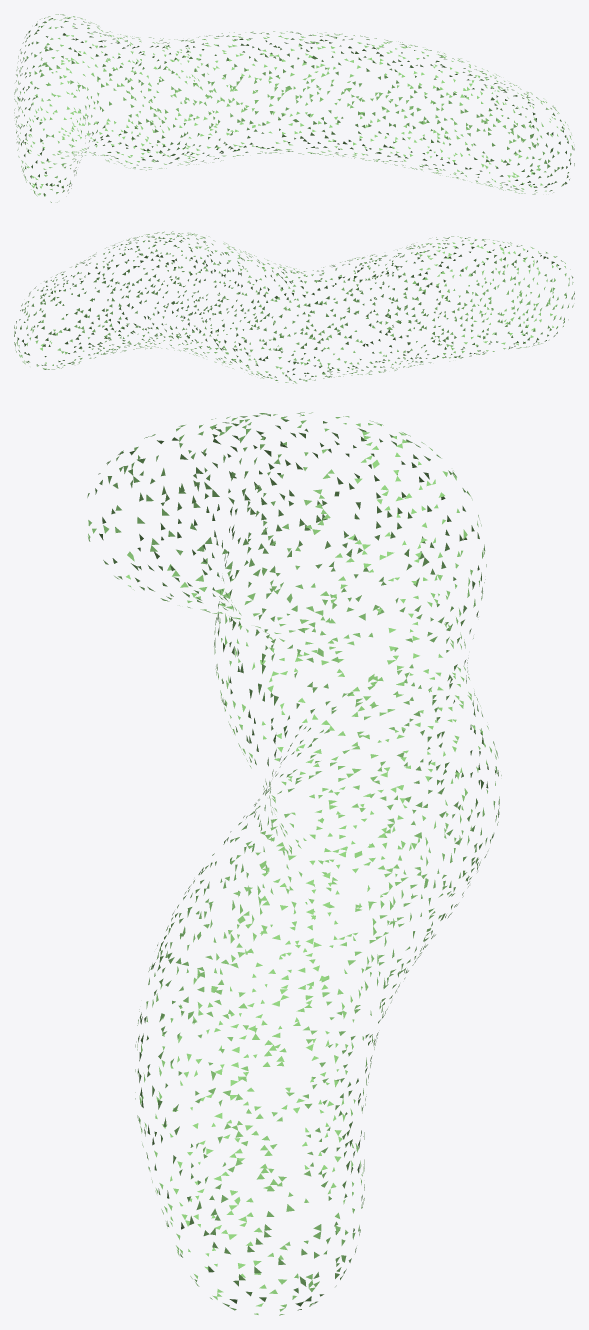
Rendered from morph_015.glb.
The picture shows the model from 3 angles, top to bottom: view 1: azimuth 30°, elevation 25°; view 2: azimuth 150°, elevation 25°; view 3: azimuth 270°, elevation 25°; orthographic projection. The views are drawn at different scales.
Bounding box in the file's own units: 106 × 47.75 × 37.19.
